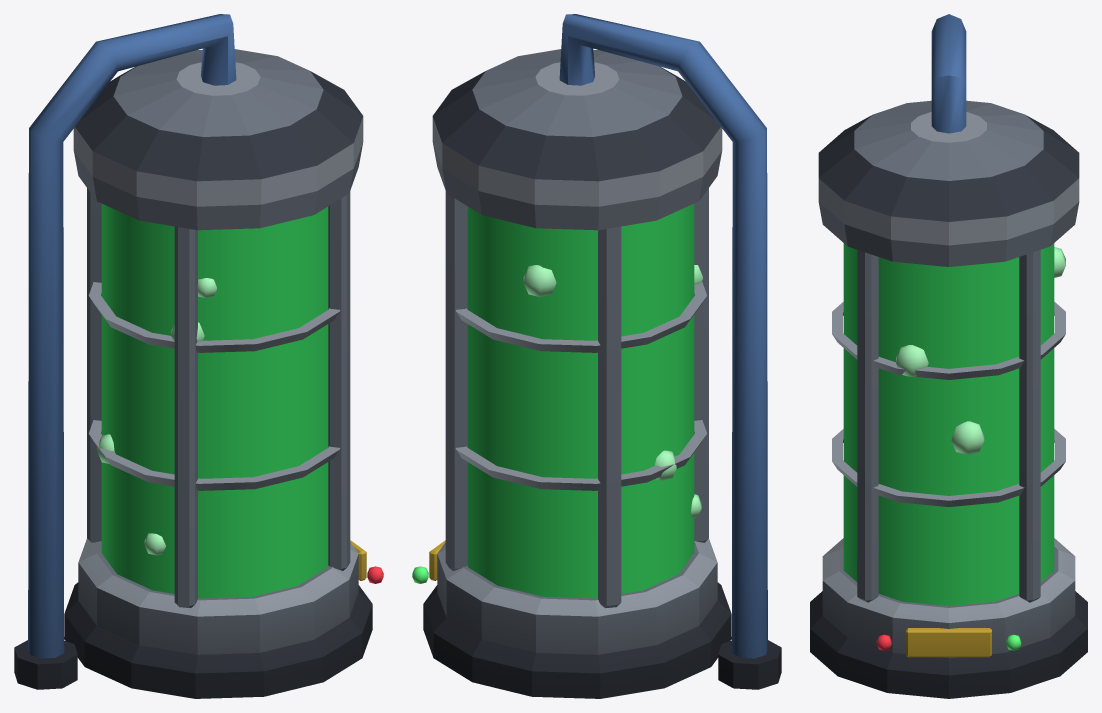
File: lab_tank.glb
The picture shows the model from 3 angles, left to right: view 1: azimuth 30°, elevation 25°; view 2: azimuth 150°, elevation 25°; view 3: azimuth 270°, elevation 25°; orthographic projection. The views are drawn at different scales.
Visible parts, largest first — view 1: Body, Glow; view 2: Body, Glow; view 3: Body, Glow.
Boxes of the visible parts, bbox=[...] form: Body: bbox=[14, 14, 372, 698]; Glow: bbox=[97, 204, 383, 598]; Body: bbox=[423, 14, 781, 698]; Glow: bbox=[412, 204, 702, 598]; Body: bbox=[810, 14, 1087, 698]; Glow: bbox=[843, 243, 1065, 650].
Size of the model in its own units: 1.65 by 2.92 by 1.29.
